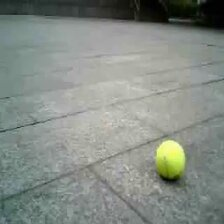tennis: (155, 139, 184, 176)
